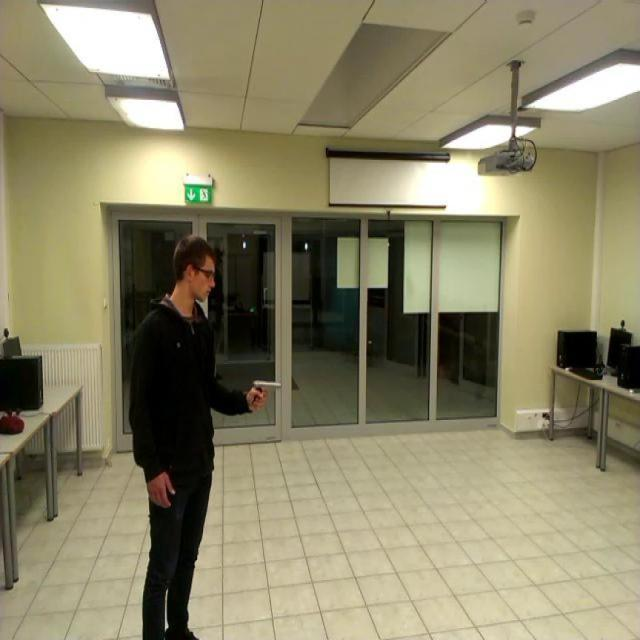pistol: (253, 378, 283, 402)
